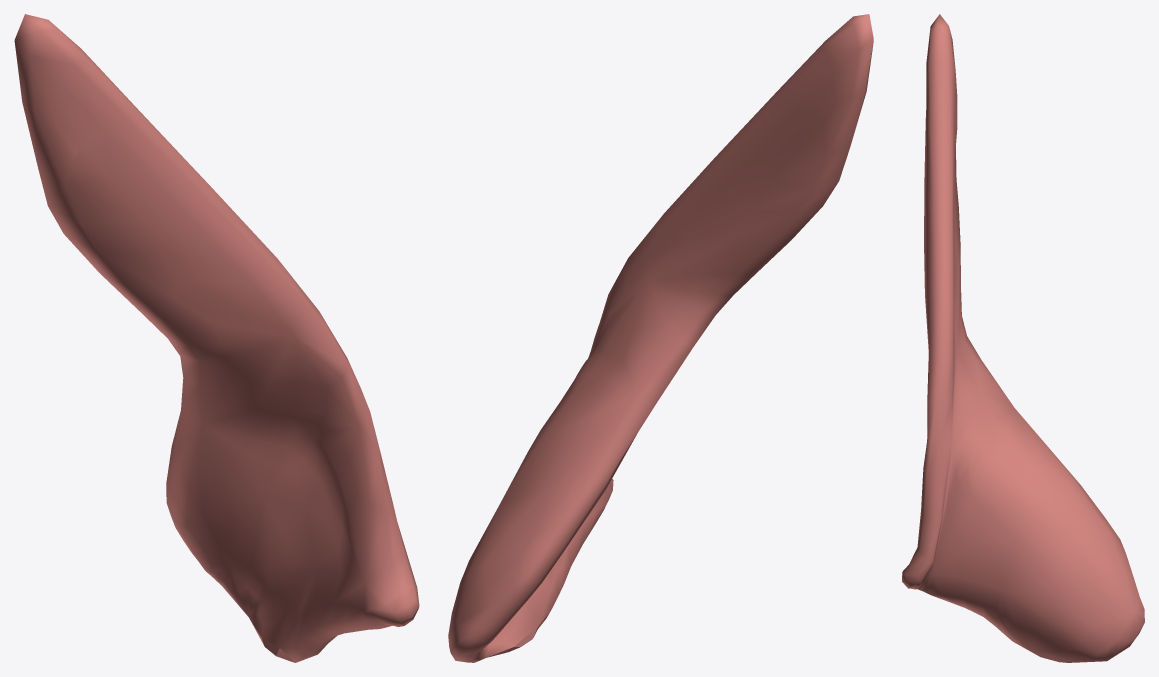
3 views of the same model, side by side, from view 1: azimuth 30°, elevation 25°; view 2: azimuth 150°, elevation 25°; view 3: azimuth 270°, elevation 25° (orthographic). The views are drawn at different scales.
Visible parts, largest first — view 1: ZA_91fdca10acc8c9a9; view 2: ZA_91fdca10acc8c9a9; view 3: ZA_91fdca10acc8c9a9.
Part boxes in pixels (x1=…): ZA_91fdca10acc8c9a9: x1=14, y1=14, x2=419, y2=662; ZA_91fdca10acc8c9a9: x1=448, y1=14, x2=873, y2=662; ZA_91fdca10acc8c9a9: x1=902, y1=14, x2=1144, y2=662.
Bounding box in the file's own units: 0.00523 × 0.00994 × 0.00413.
